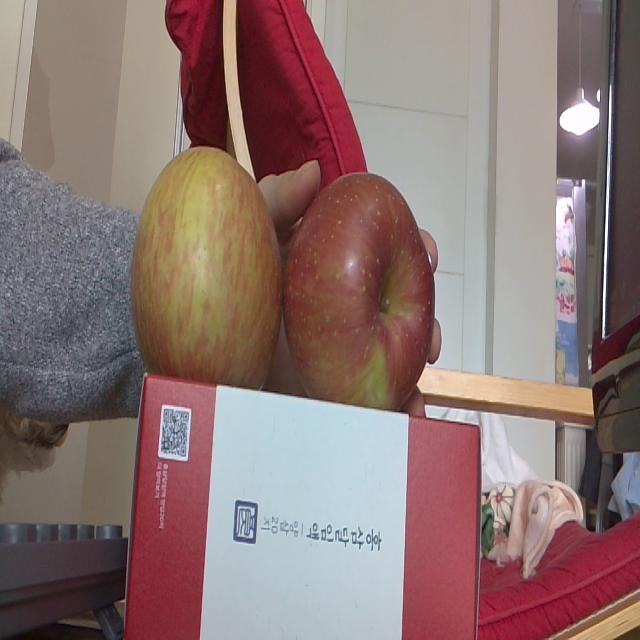apple: (131, 147, 279, 392), (284, 172, 434, 406)
